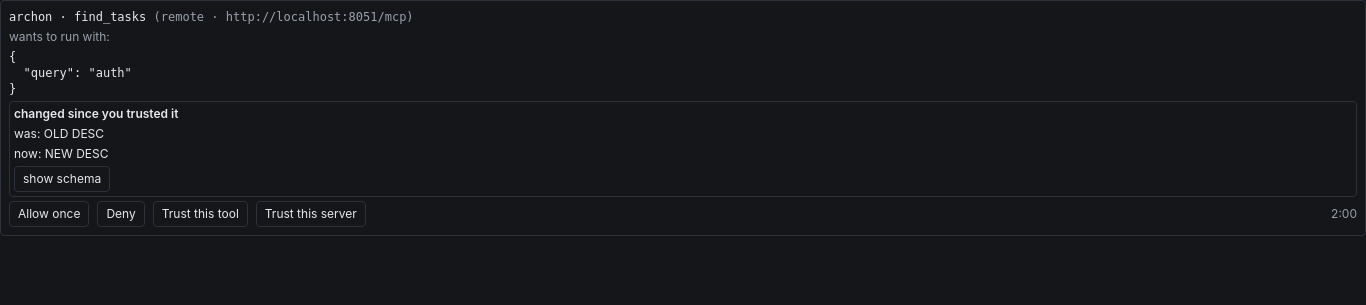
Test: shows changed since you trusted it with old and new text
expect the text "changed since you trusted it" is shown: met, box [14, 106, 178, 121]
expect the text "was: OLD DESC" is shown: met, box [14, 126, 104, 141]
Click the button "show schema" at (62, 179), box [14, 166, 110, 192]
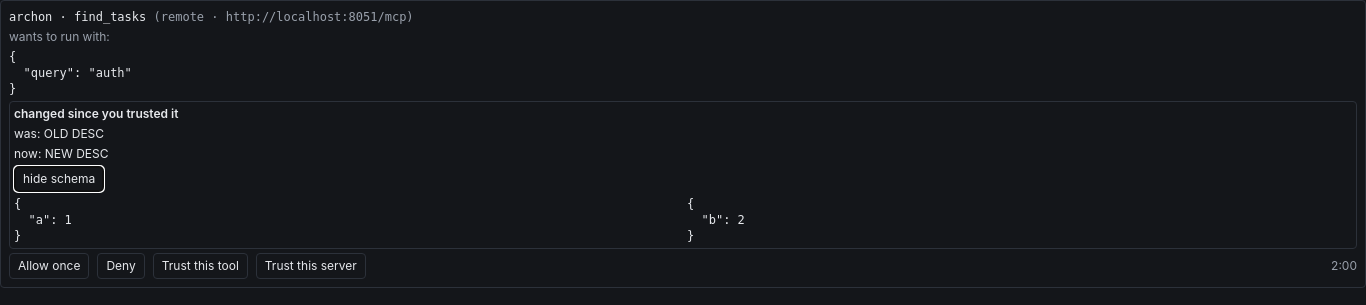
expect the text "{ \"a\": 1 }" is shown: met, box [14, 197, 72, 243]
expect the text "{ \"b\": 2 }" is shown: met, box [687, 197, 745, 243]
